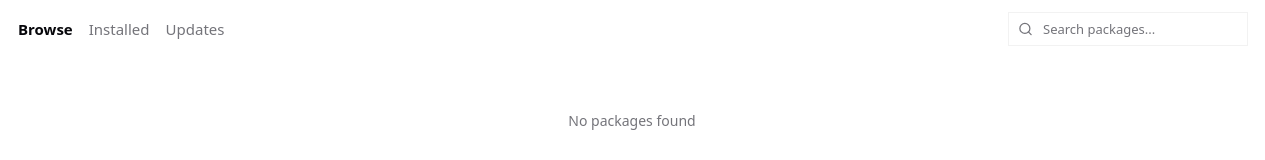
it: InstalledList › falls back to packageId when package lookup misses
The image size is (1265, 160).
Click the button with class "store-header-tab" showing "Installed": (119, 29) [87,14,152,44]
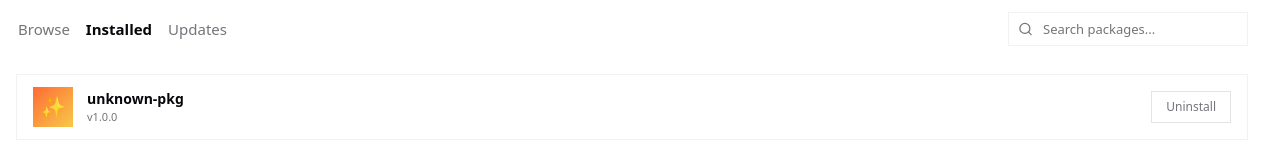
Now the text with class "store-installed-name" reads "unknown-pkg", box [87,89,184,108]
